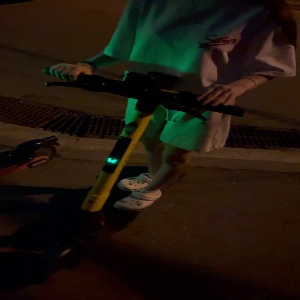human on a scooter: (34, 1, 296, 281)
